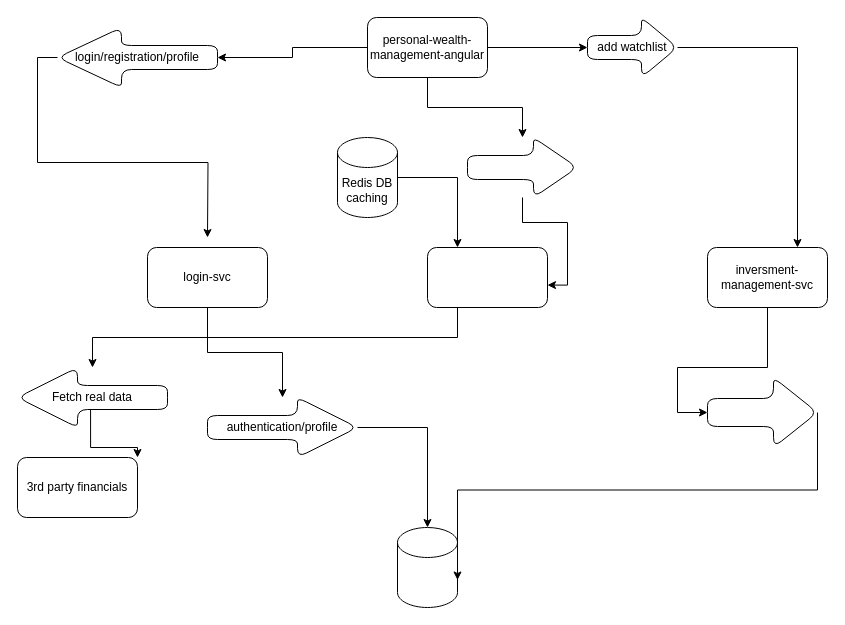
The diagram is 845 pixels wide and 625 high, and some of its shapes have lost their labels. Each missing label, with the centre of its shape:
"news-scheduler-svc" goes at point 487,277.
"Postgress DB" goes at point 427,567.
"save for every customer wise" goes at point 762,412.
"sends Ticker ,Country" goes at point 522,167.
